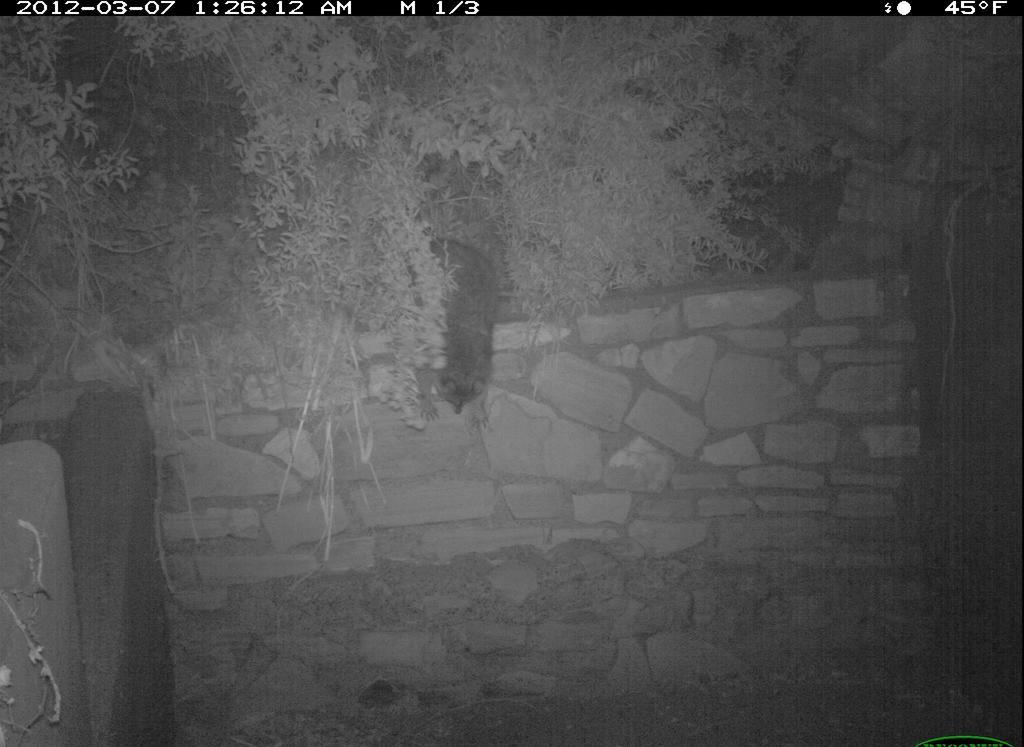raccoon: (404, 236, 520, 436)
